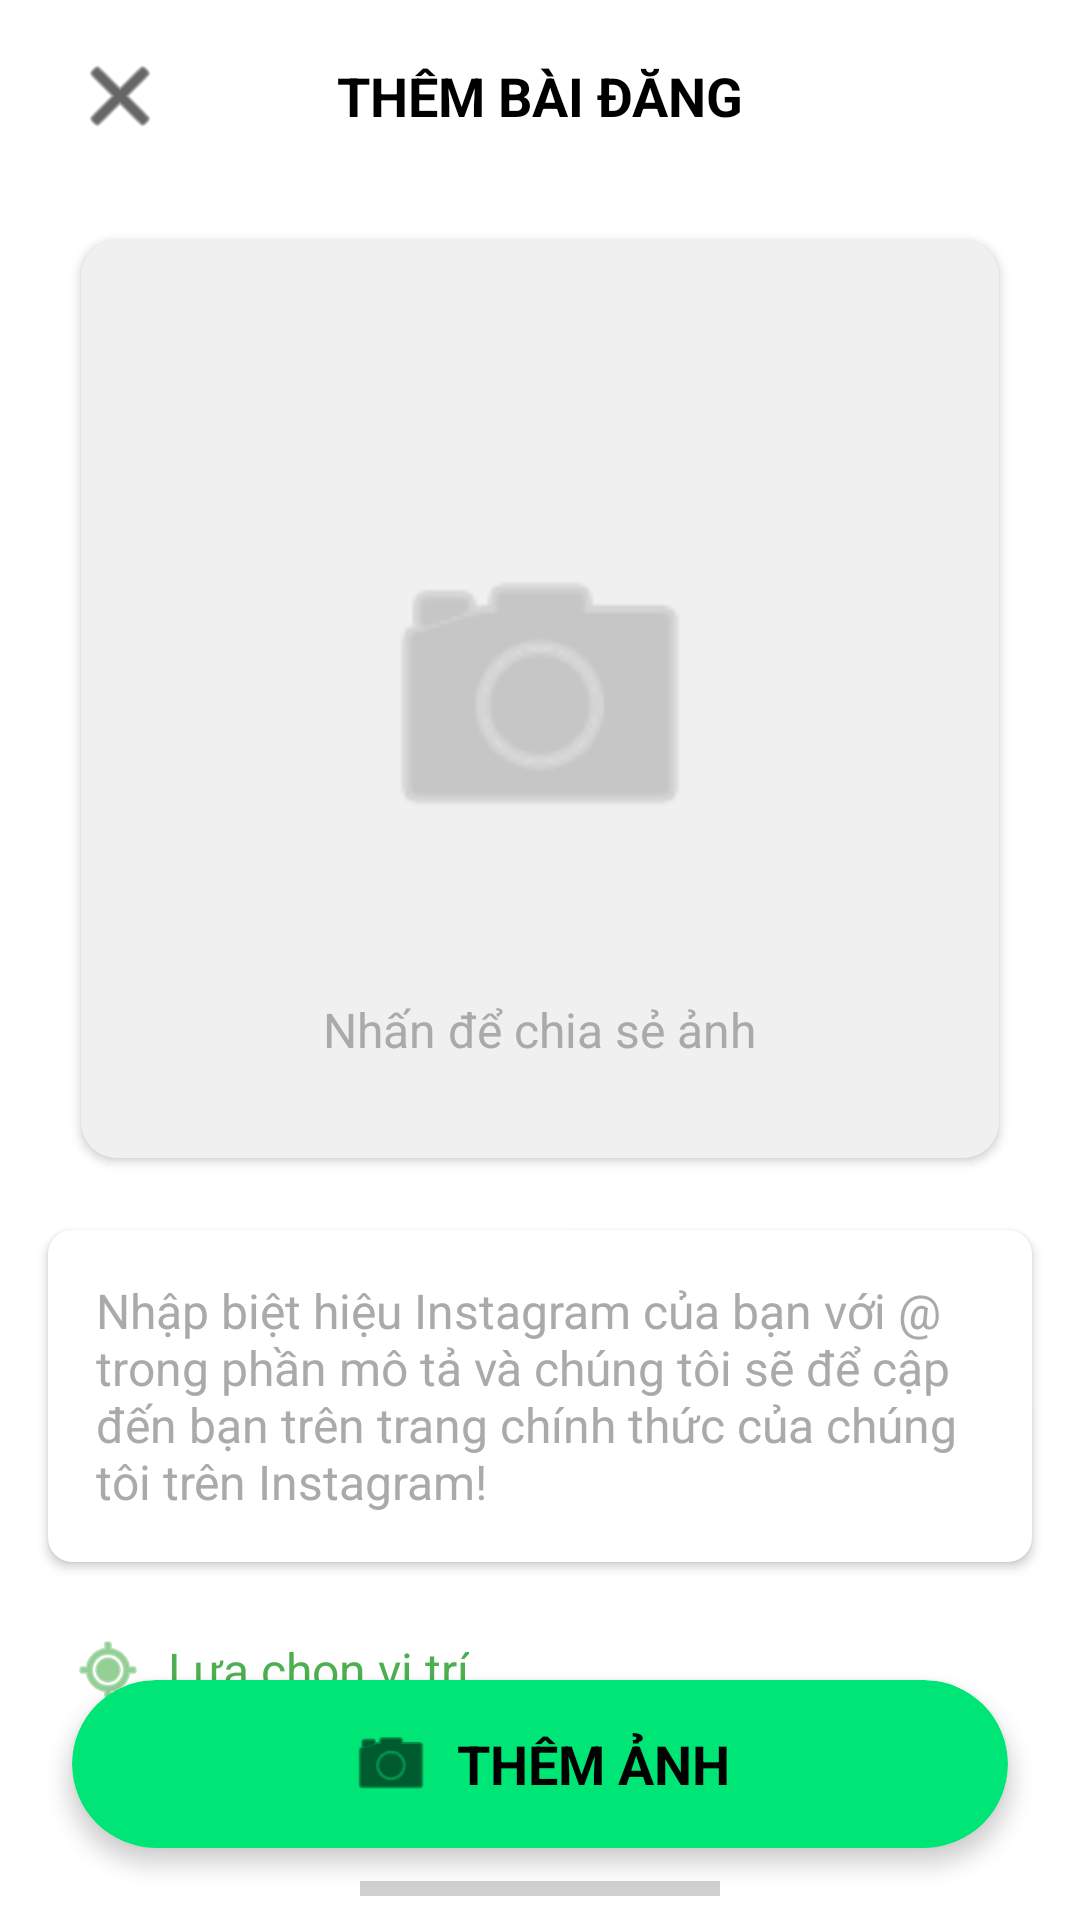

Screen size 1080px×1920px. Icon name, then its center in pixels as (x=x, y=y):
camera: (x=540, y=693), (x=391, y=1763)
mylocation: (x=111, y=1673)
Đóng: (x=120, y=96)
